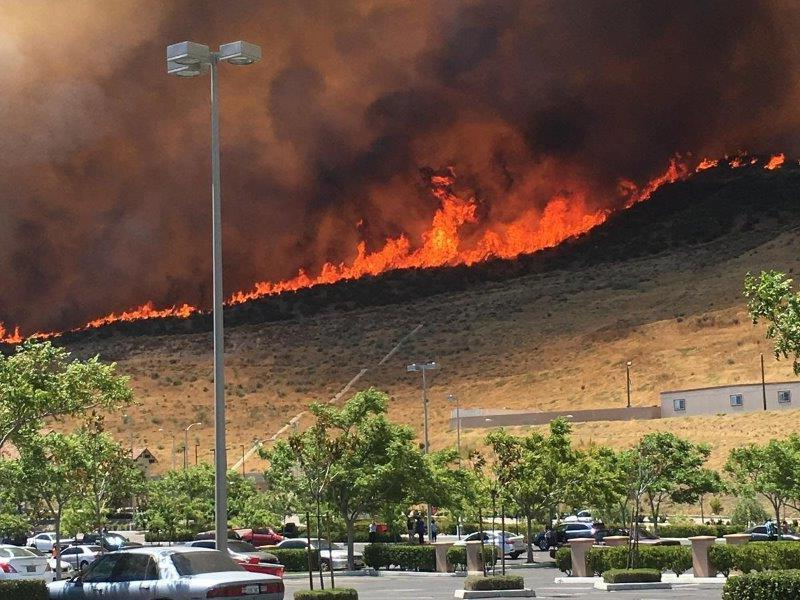Fire: (226, 181, 601, 310), (629, 150, 789, 211), (5, 300, 196, 343)
